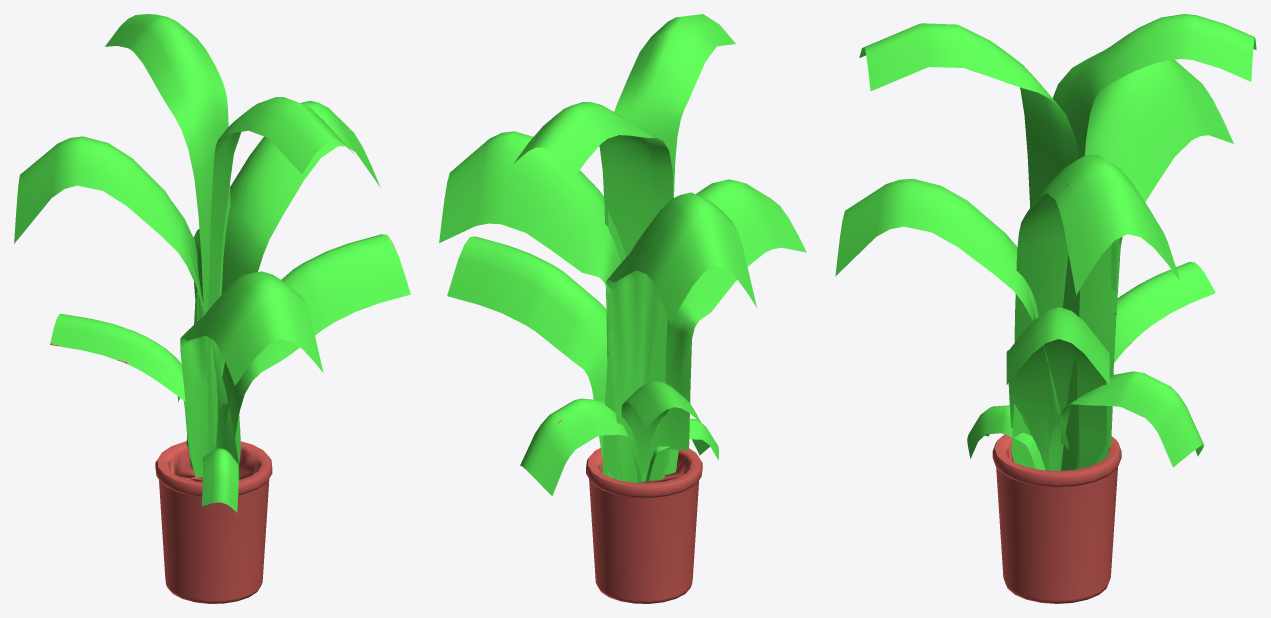
File: plant.fbx
The picture shows the model from 3 angles, left to right: view 1: azimuth 30°, elevation 25°; view 2: azimuth 150°, elevation 25°; view 3: azimuth 270°, elevation 25°; orthographic projection. The views are drawn at different scales.
Visible parts, largest first — view 1: Potted_Plant; view 2: Potted_Plant; view 3: Potted_Plant.
Boxes of the visible parts, x1,y1,x2,y2 form: Potted_Plant: (14, 14, 410, 603); Potted_Plant: (439, 14, 806, 603); Potted_Plant: (835, 14, 1256, 603).
Bounding box in the file's own units: 1 × 1.5 × 1.
1 material, 1 textured.
